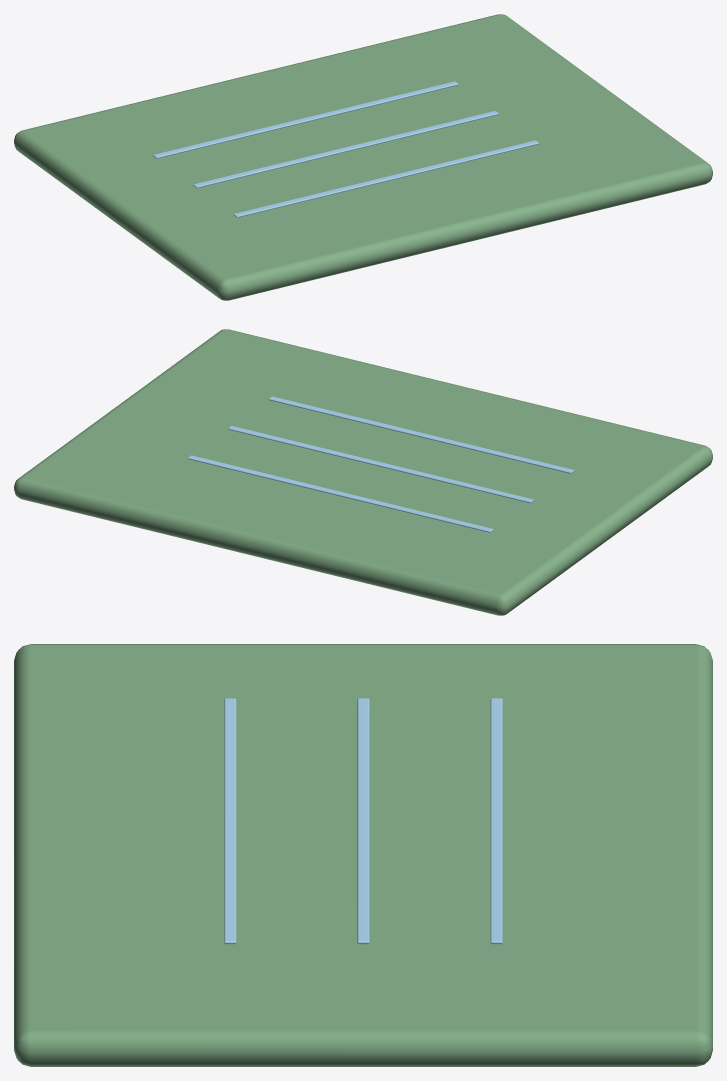
Rendered from officeStickyNoteGreen.glb.
The picture shows the model from 3 angles, top to bottom: view 1: azimuth 30°, elevation 25°; view 2: azimuth 150°, elevation 25°; view 3: azimuth 270°, elevation 25°; orthographic projection. The views are drawn at different scales.
Parts seen in each view (by area): view 1: Paper, Printed line.001, Printed line, Printed line.002; view 2: Paper, Printed line.001, Printed line.002, Printed line; view 3: Paper, Printed line, Printed line.002, Printed line.001.
Part boxes in pixels (left/top/right/bottom): Paper: left=14, top=14, right=712, bottom=300; Printed line.001: left=193, top=111, right=498, bottom=188; Printed line: left=233, top=140, right=538, bottom=217; Printed line.002: left=153, top=81, right=458, bottom=158; Paper: left=14, top=329, right=712, bottom=615; Printed line.001: left=228, top=426, right=533, bottom=503; Printed line.002: left=188, top=455, right=493, bottom=532; Printed line: left=268, top=396, right=573, bottom=473; Paper: left=14, top=644, right=712, bottom=1066; Printed line: left=224, top=698, right=236, bottom=944; Printed line.002: left=490, top=698, right=502, bottom=944; Printed line.001: left=357, top=698, right=369, bottom=944.
Size of the model in its own units: 0.85 by 0.039 by 0.63.
